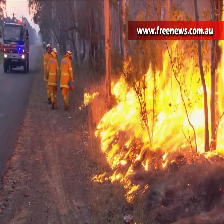fire_h: (92, 42, 224, 205), (121, 163, 140, 203), (92, 170, 121, 184)
fire_l: (79, 92, 98, 108), (141, 183, 148, 195)
